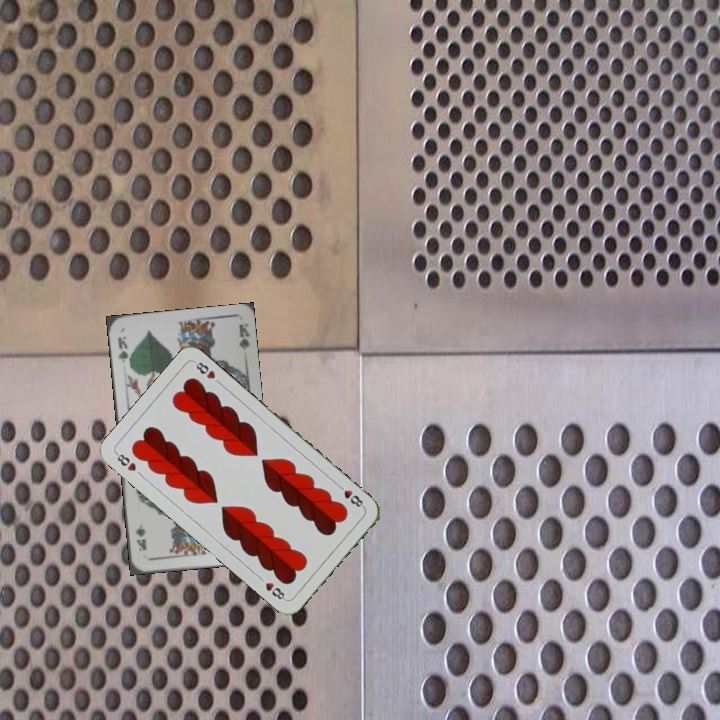GK: (114, 332, 133, 369)
H8: (333, 480, 367, 511), (111, 449, 139, 474)
